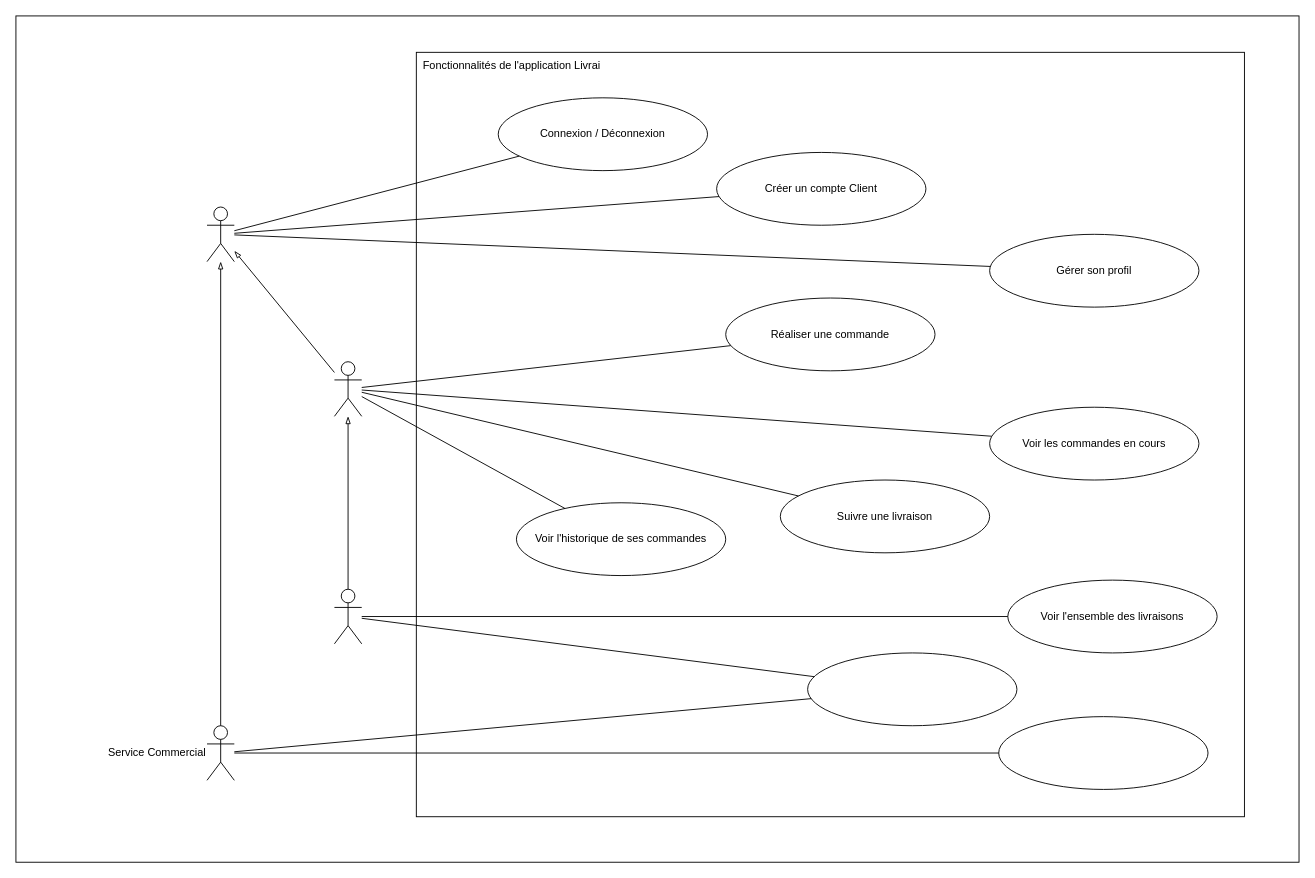
Some shapes in this 1315 by 878 pixel diagram are drawn without their labels. The centre of each missing label's shape, as x and y in pixels:
Accéder à la facturation: the point at 912,689
Client: the point at 348,388
Gérer les clients: the point at 1103,752
Service Livraison: the point at 348,616
Utilisateur lambda: the point at 220,234
